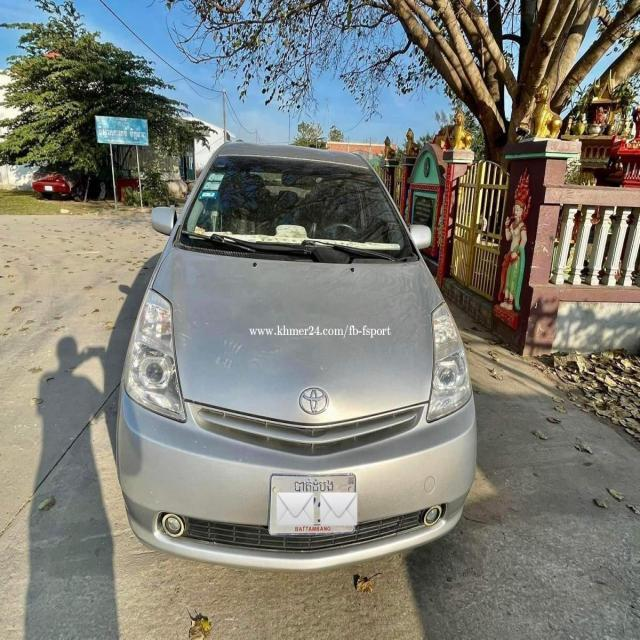Battambang: (295, 478, 334, 492)
